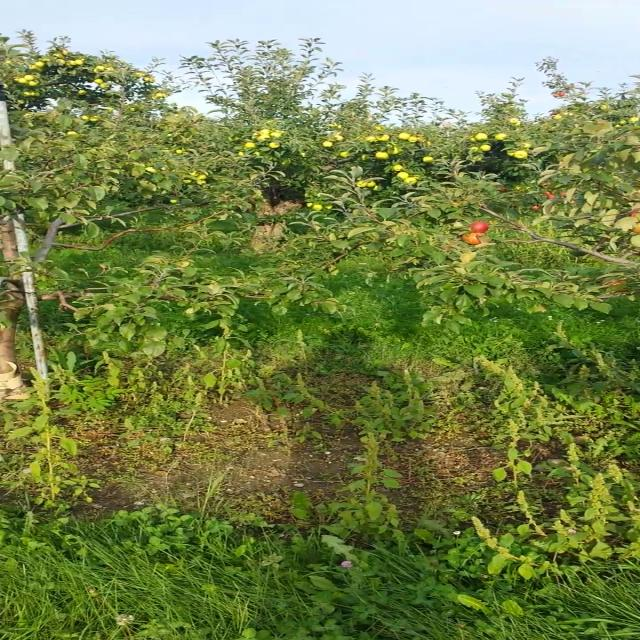apple: (469, 220, 491, 232), (463, 232, 482, 245), (601, 279, 627, 286), (628, 209, 638, 217), (629, 225, 639, 233)
